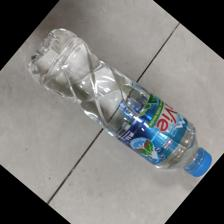Lavie: (25, 26, 213, 178)
